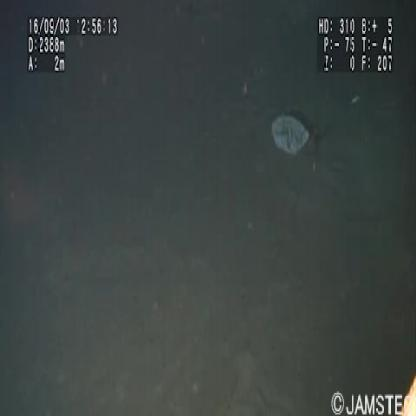Rác: (265, 108, 314, 160)
